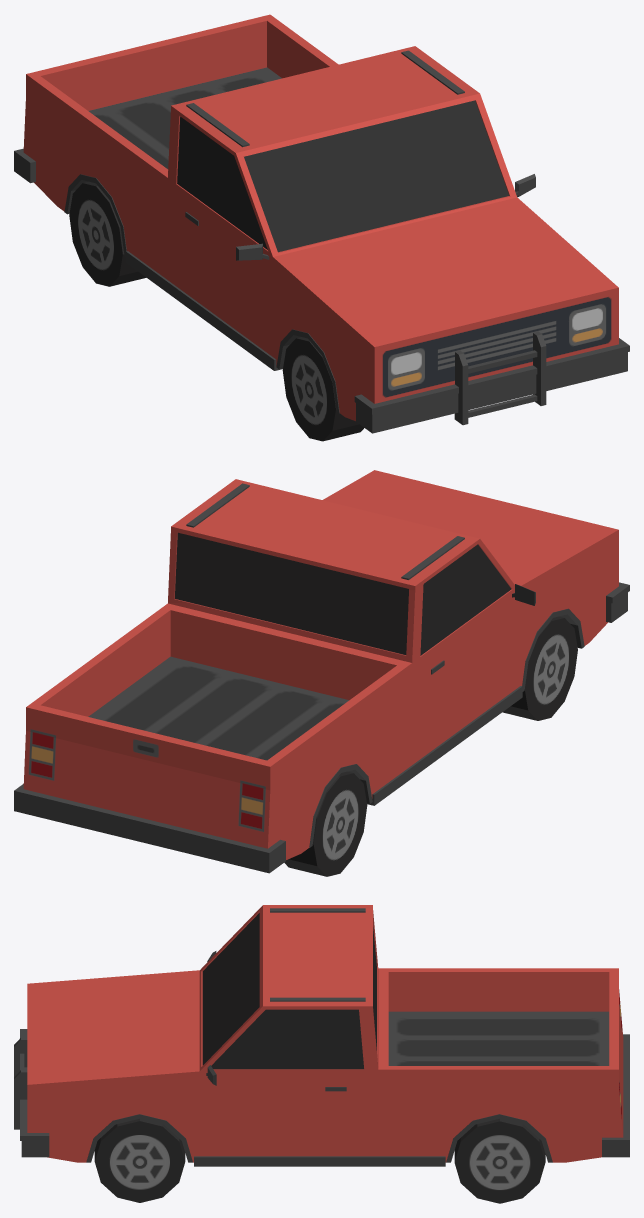
Rendered from pick-up-truck.glb.
The picture shows the model from 3 angles, top to bottom: view 1: azimuth 30°, elevation 25°; view 2: azimuth 150°, elevation 25°; view 3: azimuth 270°, elevation 25°; orthographic projection. The views are drawn at different scales.
Visible parts, largest first — view 1: Body, FR, RR; view 2: Body, RR, FR; view 3: Body, RL, FL.
Boxes of the visible parts, bbox=[...] form: Body: bbox=[14, 14, 629, 433]; FR: bbox=[282, 337, 363, 441]; RR: bbox=[69, 181, 146, 286]; Body: bbox=[14, 470, 629, 873]; RR: bbox=[284, 771, 367, 876]; FR: bbox=[502, 616, 577, 720]; Body: bbox=[14, 905, 629, 1166]; RL: bbox=[454, 1118, 545, 1203]; FL: bbox=[94, 1118, 185, 1202].
Bounding box in the file's own units: 3.06 × 2.29 × 6.43.
Materials: 1 (1 with a texture image).
